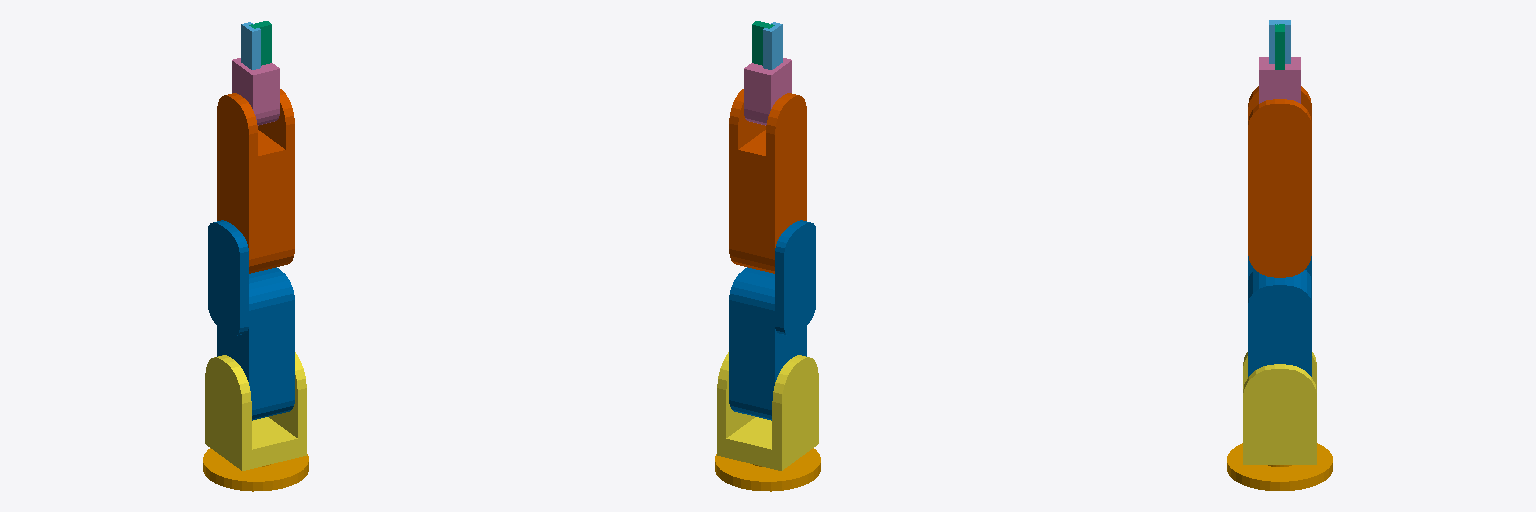
The robot description file, URDF, robot "the_arm":
<robot name="the_arm" version="1.0">
  <joint name="gripper_l_link_joint" type="prismatic">
    <limit lower="0.00000" upper="0.20000" effort="0.00000" velocity="0.00000"/>
    <origin rpy="0.00000 0.00000 0.00000" xyz="-0.10000 -0.00000 0.80000"/>
    <parent link="wrist_link"/>
    <child link="gripper_l_link"/>
    <axis xyz="-1.00000 0.00000 0.00000"/>
  </joint>
  <joint name="gripper_r_link_joint" type="prismatic">
    <limit lower="0.00000" upper="0.20000" effort="0.00000" velocity="0.00000"/>
    <origin rpy="0.00000 0.00000 0.00000" xyz="0.10000 -0.00000 0.80000"/>
    <parent link="wrist_link"/>
    <child link="gripper_r_link"/>
    <axis xyz="1.00000 0.00000 0.00000"/>
  </joint>
  <joint name="lower_link_joint" type="continuous">
    <limit lower="0" upper="0" effort="0.00000" velocity="0.00000"/>
    <origin rpy="0.00000 0.00000 0.00000" xyz="0.00000 0.00000 0.30000"/>
    <parent link="base_link"/>
    <child link="lower_link"/>
    <axis xyz="0.00000 0.00000 1.00000"/>
  </joint>
  <joint name="mid_link_joint" type="revolute">
    <limit lower="-2.00000" upper="2.00000" effort="0.00000" velocity="0.00000"/>
    <origin rpy="0.00000 0.00000 0.00000" xyz="-0.00000 -0.00000 1.30000"/>
    <parent link="lower_link"/>
    <child link="mid_link"/>
    <axis xyz="1.00000 0.00000 0.00000"/>
  </joint>
  <joint name="upper_link_joint" type="revolute">
    <limit lower="-2.00000" upper="2.00000" effort="0.00000" velocity="0.00000"/>
    <origin rpy="0.00000 0.00000 0.00000" xyz="0.00000 -0.00000 3.10000"/>
    <parent link="mid_link"/>
    <child link="upper_link"/>
    <axis xyz="1.00000 0.00000 0.00000"/>
  </joint>
  <joint name="wrist_link_joint" type="revolute">
    <limit lower="-2.00000" upper="2.00000" effort="0.00000" velocity="0.00000"/>
    <origin rpy="0.00000 0.00000 0.00000" xyz="0.00000 0.00000 2.80000"/>
    <parent link="upper_link"/>
    <child link="wrist_link"/>
    <axis xyz="1.00000 0.00000 0.00000"/>
  </joint>
  <link name="base_link">
    <collision name="base_1_collision">
      <origin rpy="0.00000 0.00000 0.00000" xyz="0.00000 0.00000 0.00000"/>
      <geometry>
        <mesh filename="package://the_arm/meshes/stl/base_1.stl" scale="1.00000 1.00000 1.00000"/>
      </geometry>
    </collision>
    <collision name="base_2_collision">
      <origin rpy="0.00000 0.00000 0.00000" xyz="0.00000 0.00000 0.20000"/>
      <geometry>
        <mesh filename="package://the_arm/meshes/stl/base_2.stl" scale="1.00000 1.00000 1.00000"/>
      </geometry>
    </collision>
    <inertial>
      <inertia ixx="0.00287" ixy="0.00000" ixz="-0.00000" iyy="0.00287" iyz="0.00000" izz="0.00561"/>
      <origin rpy="0.00000 0.00000 0.00000" xyz="0.00000 -0.00000 0.10000"/>
      <mass value="0.02000"/>
    </inertial>
    <visual name="base_1">
      <origin rpy="0.00000 0.00000 0.00000" xyz="0.00000 0.00000 0.00000"/>
      <geometry>
        <mesh filename="package://the_arm/meshes/stl/base_1.stl" scale="1.00000 1.00000 1.00000"/>
      </geometry>
    </visual>
    <visual name="base_2">
      <origin rpy="0.00000 0.00000 0.00000" xyz="0.00000 0.00000 0.20000"/>
      <geometry>
        <mesh filename="package://the_arm/meshes/stl/base_2.stl" scale="1.00000 1.00000 1.00000"/>
      </geometry>
    </visual>
  </link>
  <link name="gripper_l_link">
    <collision name="gripper_l_collision">
      <origin rpy="0.00000 0.00000 0.00000" xyz="-0.00000 0.00000 0.40000"/>
      <geometry>
        <mesh filename="package://the_arm/meshes/stl/gripper_l.stl" scale="1.00000 1.00000 1.00000"/>
      </geometry>
    </collision>
    <inertial>
      <inertia ixx="0.00067" ixy="-0.00000" ixz="-0.00000" iyy="0.00057" iyz="0.00000" izz="0.00017"/>
      <origin rpy="0.00000 0.00000 0.00000" xyz="0.00000 0.00000 0.40000"/>
      <mass value="0.01000"/>
    </inertial>
    <visual name="gripper_l">
      <origin rpy="0.00000 0.00000 0.00000" xyz="0.00000 0.00000 0.40000"/>
      <geometry>
        <mesh filename="package://the_arm/meshes/stl/gripper_l.stl" scale="1.00000 1.00000 1.00000"/>
      </geometry>
    </visual>
  </link>
  <link name="gripper_r_link">
    <collision name="gripper_r_collision">
      <origin rpy="0.00000 0.00000 0.00000" xyz="-0.00000 0.00000 0.40000"/>
      <geometry>
        <mesh filename="package://the_arm/meshes/stl/gripper_r.stl" scale="1.00000 1.00000 1.00000"/>
      </geometry>
    </collision>
    <inertial>
      <inertia ixx="0.00067" ixy="-0.00000" ixz="-0.00000" iyy="0.00057" iyz="0.00000" izz="0.00017"/>
      <origin rpy="0.00000 0.00000 0.00000" xyz="0.00000 0.00000 0.40000"/>
      <mass value="0.01000"/>
    </inertial>
    <visual name="gripper_r">
      <origin rpy="0.00000 0.00000 0.00000" xyz="0.00000 0.00000 0.40000"/>
      <geometry>
        <mesh filename="package://the_arm/meshes/stl/gripper_r.stl" scale="1.00000 1.00000 1.00000"/>
      </geometry>
    </visual>
  </link>
  <link name="lower_link">
    <collision name="lower_collision">
      <origin rpy="0.00000 0.00000 0.00000" xyz="0.00000 0.00000 1.00000"/>
      <geometry>
        <mesh filename="package://the_arm/meshes/stl/lower.stl" scale="1.00000 1.00000 1.00000"/>
      </geometry>
    </collision>
    <inertial>
      <inertia ixx="0.00816" ixy="0.00000" ixz="-0.00000" iyy="0.00867" iyz="-0.00000" izz="0.00289"/>
      <origin rpy="0.00000 0.00000 0.00000" xyz="0.00000 0.00000 0.68757"/>
      <mass value="0.01000"/>
    </inertial>
    <visual name="lower">
      <origin rpy="0.00000 0.00000 0.00000" xyz="0.00000 0.00000 1.00000"/>
      <geometry>
        <mesh filename="package://the_arm/meshes/stl/lower.stl" scale="1.00000 1.00000 1.00000"/>
      </geometry>
    </visual>
  </link>
  <link name="mid_link">
    <collision name="mid_collision">
      <origin rpy="0.00000 0.00000 0.00000" xyz="0.00000 0.00000 0.90000"/>
      <geometry>
        <mesh filename="package://the_arm/meshes/stl/mid.stl" scale="1.00000 1.00000 1.00000"/>
      </geometry>
    </collision>
    <collision name="mid_l_collision">
      <origin rpy="0.00000 0.00000 0.00000" xyz="-0.60000 -0.00000 2.40000"/>
      <geometry>
        <mesh filename="package://the_arm/meshes/stl/mid_l.stl" scale="1.00000 1.00000 1.00000"/>
      </geometry>
    </collision>
    <collision name="mid_r_collision">
      <origin rpy="0.00000 0.00000 0.00000" xyz="0.60000 -0.00000 2.40000"/>
      <geometry>
        <mesh filename="package://the_arm/meshes/stl/mid_r.stl" scale="1.00000 1.00000 1.00000"/>
      </geometry>
    </collision>
    <inertial>
      <inertia ixx="0.01675" ixy="0.00000" ixz="0.00000" iyy="0.01425" iyz="0.00000" izz="0.00429"/>
      <origin rpy="0.00000 0.00000 0.00000" xyz="-0.00000 -0.00000 1.90000"/>
      <mass value="0.03000"/>
    </inertial>
    <visual name="mid">
      <origin rpy="0.00000 0.00000 0.00000" xyz="0.00000 0.00000 0.90000"/>
      <geometry>
        <mesh filename="package://the_arm/meshes/stl/mid.stl" scale="1.00000 1.00000 1.00000"/>
      </geometry>
    </visual>
    <visual name="mid_l">
      <origin rpy="0.00000 0.00000 0.00000" xyz="-0.60000 -0.00000 2.40000"/>
      <geometry>
        <mesh filename="package://the_arm/meshes/stl/mid_l.stl" scale="1.00000 1.00000 1.00000"/>
      </geometry>
    </visual>
    <visual name="mid_r">
      <origin rpy="0.00000 0.00000 0.00000" xyz="0.60000 -0.00000 2.40000"/>
      <geometry>
        <mesh filename="package://the_arm/meshes/stl/mid_r.stl" scale="1.00000 1.00000 1.00000"/>
      </geometry>
    </visual>
  </link>
  <link name="upper_link">
    <collision name="upper_collision">
      <origin rpy="0.00000 0.00000 0.00000" xyz="-0.00000 0.00000 1.20000"/>
      <geometry>
        <mesh filename="package://the_arm/meshes/stl/upper.stl" scale="1.00000 1.00000 1.00000"/>
      </geometry>
    </collision>
    <inertial>
      <inertia ixx="0.01405" ixy="-0.00000" ixz="-0.00000" iyy="0.01386" iyz="0.00000" izz="0.00198"/>
      <origin rpy="0.00000 0.00000 0.00000" xyz="-0.00000 0.00000 0.96137"/>
      <mass value="0.01000"/>
    </inertial>
    <visual name="upper">
      <origin rpy="0.00000 0.00000 0.00000" xyz="0.00000 0.00000 1.20000"/>
      <geometry>
        <mesh filename="package://the_arm/meshes/stl/upper.stl" scale="1.00000 1.00000 1.00000"/>
      </geometry>
    </visual>
  </link>
  <link name="wrist_link">
    <collision name="wrist_collision">
      <origin rpy="0.00000 0.00000 0.00000" xyz="-0.00000 0.00000 0.10000"/>
      <geometry>
        <mesh filename="package://the_arm/meshes/stl/attach.stl" scale="1.00000 1.00000 1.00000"/>
      </geometry>
    </collision>
    <inertial>
      <inertia ixx="0.00271" ixy="0.00000" ixz="-0.00000" iyy="0.00251" iyz="0.00000" izz="0.00080"/>
      <origin rpy="0.00000 0.00000 0.00000" xyz="0.00000 0.00000 0.22890"/>
      <mass value="0.01000"/>
    </inertial>
    <visual name="wrist">
      <origin rpy="0.00000 0.00000 0.00000" xyz="0.00000 0.00000 0.10000"/>
      <geometry>
        <mesh filename="package://the_arm/meshes/stl/attach.stl" scale="1.00000 1.00000 1.00000"/>
      </geometry>
    </visual>
  </link>
</robot>

--- What the picture shows (computed from the rendered views, not written in the file) ---
3 views of the same robot in one strip: view 1: azimuth 30°, elevation 25°; view 2: azimuth 150°, elevation 25°; view 3: azimuth 270°, elevation 25° (orthographic).
Model the_arm with 7 links and 6 joints (3 revolute, 1 continuous, 2 prismatic), rooted at base_link, posed every joint at zero.
Links seen in each view (by area): view 1: mid_link, upper_link, lower_link, base_link, wrist_link, gripper_l_link; view 2: mid_link, upper_link, lower_link, base_link, wrist_link, gripper_l_link; view 3: upper_link, lower_link, mid_link, base_link, wrist_link, gripper_l_link.
Boxes of the visible links, left/top/right/bottom form: mid_link: left=208, top=220, right=294, bottom=420; upper_link: left=217, top=89, right=294, bottom=273; lower_link: left=205, top=352, right=306, bottom=470; base_link: left=203, top=448, right=308, bottom=491; wrist_link: left=232, top=58, right=279, bottom=125; gripper_l_link: left=241, top=22, right=260, bottom=69; mid_link: left=729, top=220, right=815, bottom=420; upper_link: left=729, top=89, right=806, bottom=273; lower_link: left=717, top=352, right=818, bottom=470; base_link: left=715, top=448, right=820, bottom=491; wrist_link: left=744, top=58, right=791, bottom=125; gripper_l_link: left=763, top=22, right=782, bottom=69; upper_link: left=1248, top=86, right=1311, bottom=277; lower_link: left=1243, top=352, right=1316, bottom=464; mid_link: left=1248, top=256, right=1311, bottom=376; base_link: left=1227, top=443, right=1332, bottom=490; wrist_link: left=1259, top=57, right=1300, bottom=103; gripper_l_link: left=1269, top=20, right=1290, bottom=63.
Size in the robot's own frame: 2 by 2 by 9.2 metres.
Meshes: 10 distinct files referenced, 9 mesh visuals loaded (9 binary STL); not drawn: 1 (reference not matched to a file when rendering).
